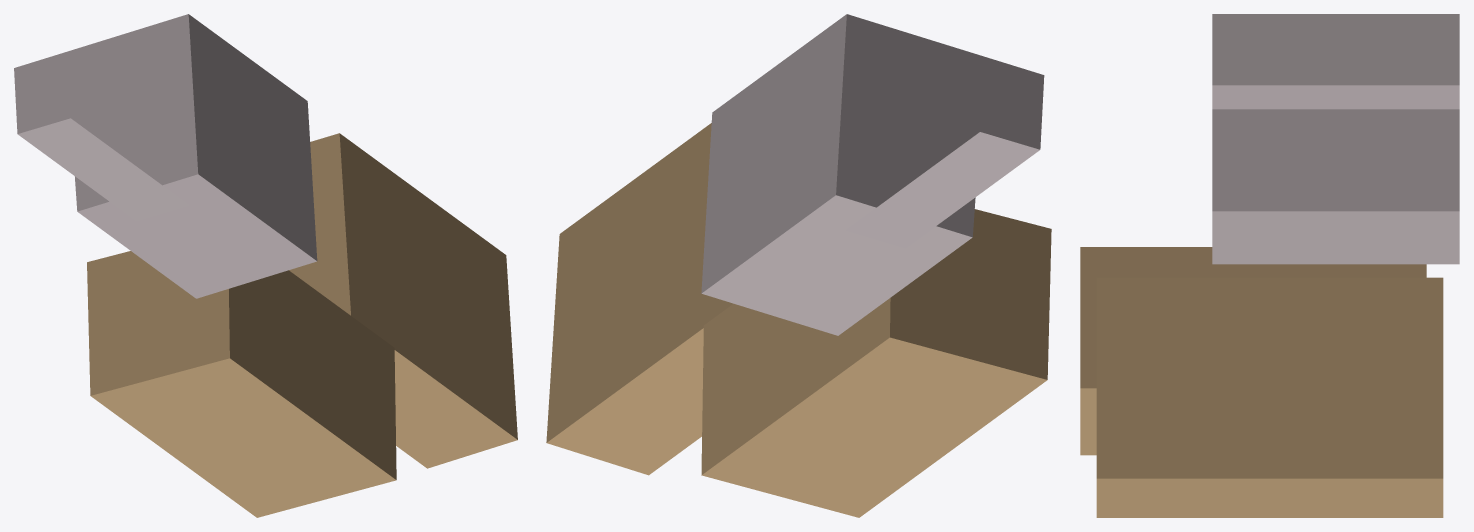
3 views of the same model, side by side, from view 1: azimuth 30°, elevation 25°; view 2: azimuth 150°, elevation 25°; view 3: azimuth 270°, elevation 25° (orthographic). The views are drawn at different scales.
Visible parts, largest first — view 1: 0_3_0_1_1_2_0_1_1_3; view 2: 0_3_0_1_1_2_0_1_1_3; view 3: 0_3_0_1_1_2_0_1_1_3.
Part boxes in pixels (x1,y1,x2,y2): 0_3_0_1_1_2_0_1_1_3: [14, 14, 517, 517]; 0_3_0_1_1_2_0_1_1_3: [546, 14, 1051, 517]; 0_3_0_1_1_2_0_1_1_3: [1080, 14, 1459, 517].
Bounding box in the file's own units: 23.95 × 23.8 × 23.
